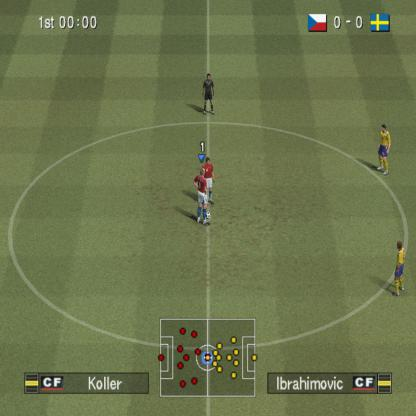face: (208, 76, 211, 81), (382, 128, 385, 133), (208, 161, 211, 166)
